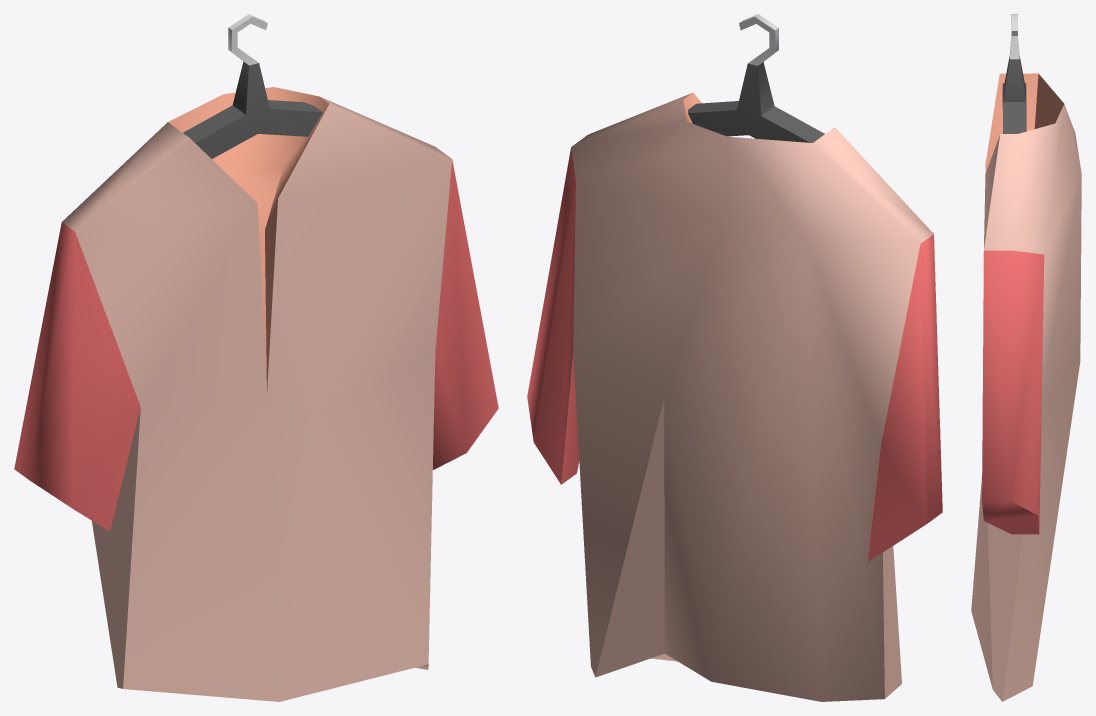
Rendered from clothes_016.glb.
3 renders of one model, left to right at view 1: azimuth 30°, elevation 25°; view 2: azimuth 150°, elevation 25°; view 3: azimuth 270°, elevation 25°, orthographic. The views are drawn at different scales.
Parts seen in each view (by area): view 1: clothes_016; view 2: clothes_016; view 3: clothes_016.
Boxes of the visible parts, x1=… form: clothes_016: x1=14, y1=14, x2=498, y2=701; clothes_016: x1=527, y1=14, x2=942, y2=701; clothes_016: x1=971, y1=14, x2=1081, y2=701.
Size of the model in its own units: 0.6023 by 0.9203 by 0.1504.
1 material, 1 textured.
